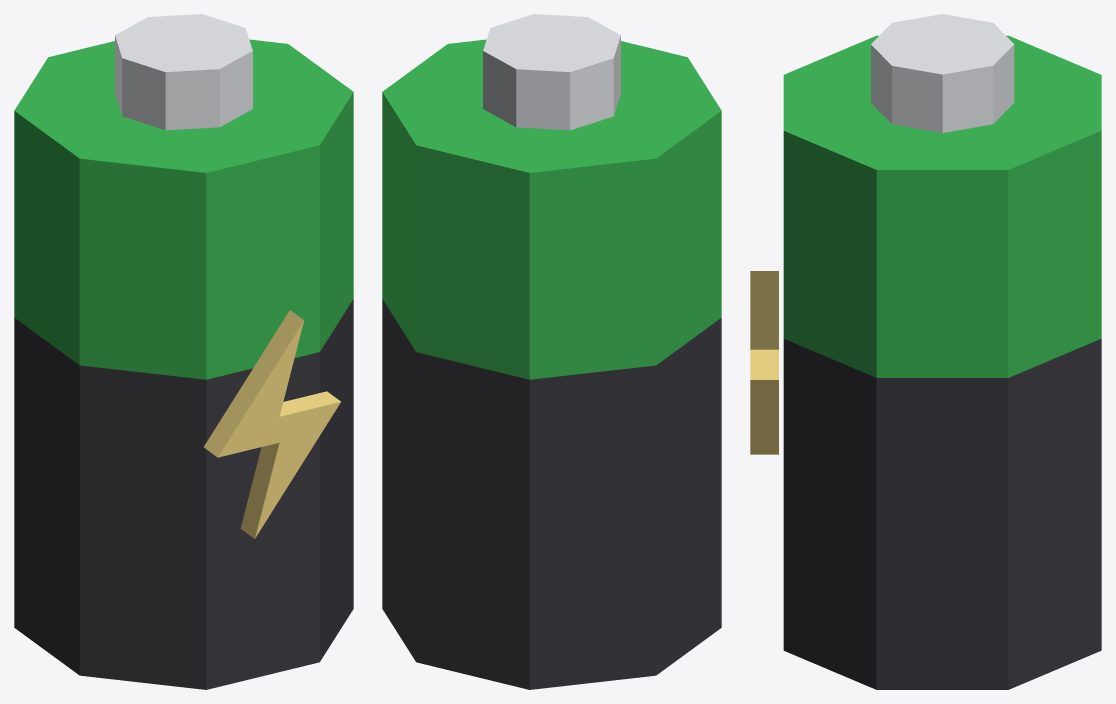
The model's file is Battery.fbx.
3 renders of one model, left to right at view 1: azimuth 30°, elevation 25°; view 2: azimuth 150°, elevation 25°; view 3: azimuth 270°, elevation 25°, orthographic.
Visible parts, largest first — view 1: Battery; view 2: Battery; view 3: Battery.
Boxes of the visible parts, <box> form: Battery: <box>14,14,353,689</box>; Battery: <box>382,14,721,689</box>; Battery: <box>750,14,1101,689</box>.
Size of the model in its own units: 1.11 by 2.22 by 1.22.
1 material, 1 textured.
